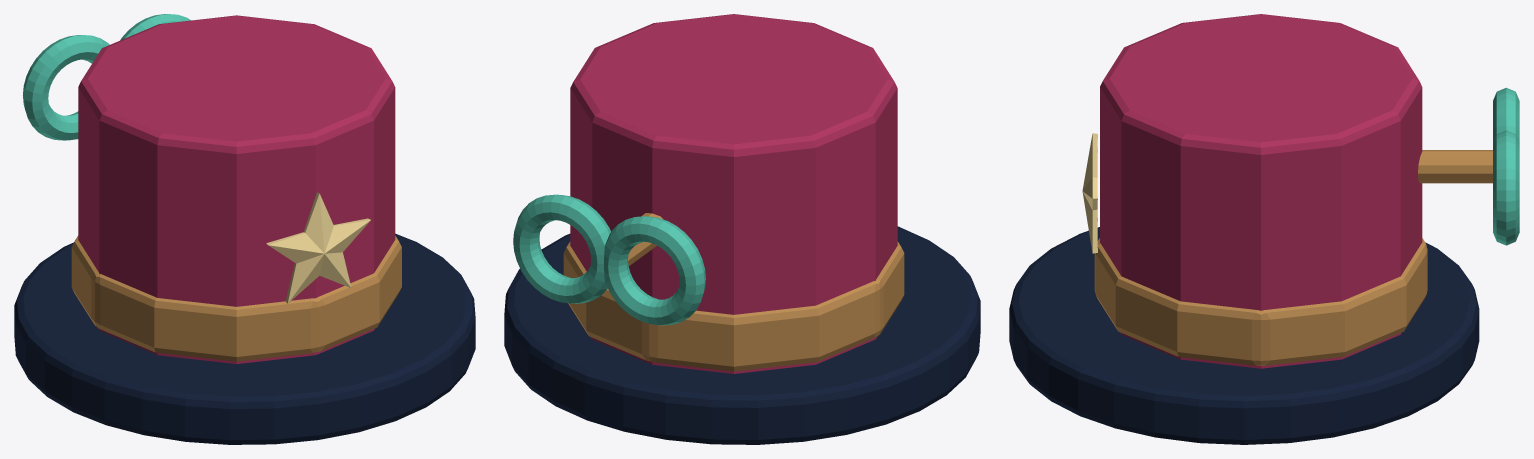
Rendered from hat_lucky.fbx.
The picture shows the model from 3 angles, left to right: view 1: azimuth 30°, elevation 25°; view 2: azimuth 150°, elevation 25°; view 3: azimuth 270°, elevation 25°; orthographic projection. The views are drawn at different scales.
Parts seen in each view (by area): view 1: hat_lucky.Mesh; view 2: hat_lucky.Mesh; view 3: hat_lucky.Mesh.
Part boxes in pixels (x1,y1,x2,y2): hat_lucky.Mesh: [14, 14, 475, 444]; hat_lucky.Mesh: [504, 14, 980, 444]; hat_lucky.Mesh: [1009, 14, 1519, 444].
Bounding box in the file's own units: 70 × 44.5 × 76.
